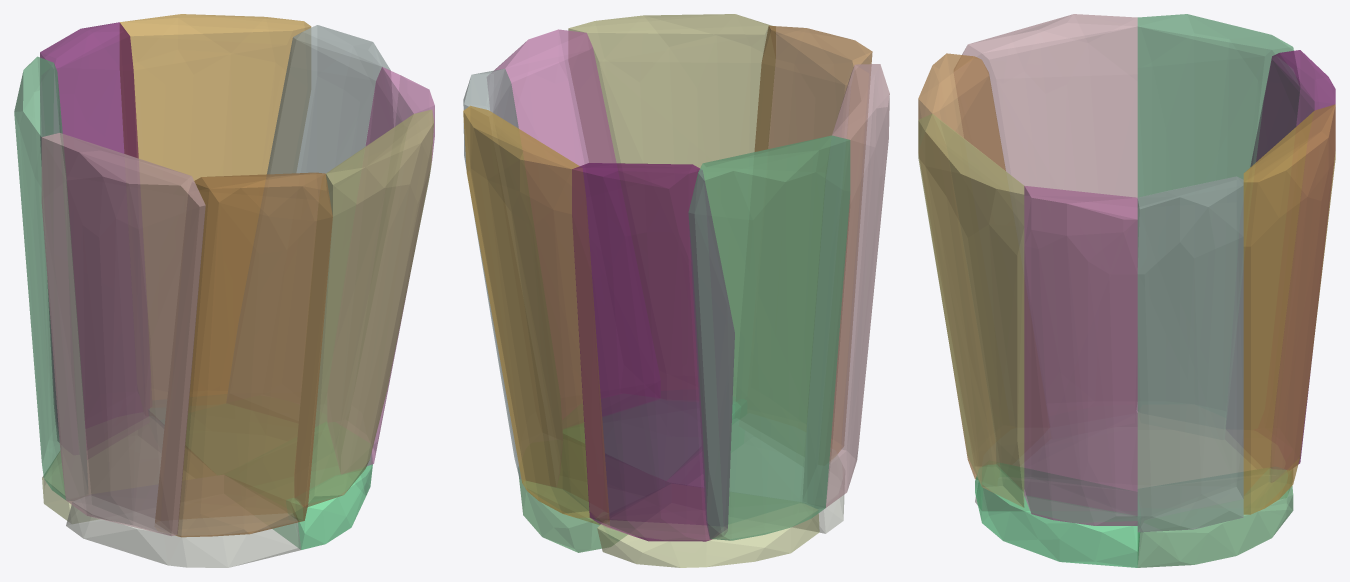
Rendered from cup.dae.
3 renders of one model, left to right at view 1: azimuth 30°, elevation 25°; view 2: azimuth 150°, elevation 25°; view 3: azimuth 270°, elevation 25°, orthographic.
Visible parts, largest first — view 1: Shape_IndexedFaceSet_005, Shape_IndexedFaceSet_004, Shape_IndexedFaceSet_011, Shape_IndexedFaceSet_006, Shape_IndexedFaceSet_010, Shape_IndexedFaceSet_009, Shape_IndexedFaceSet_007, Shape_IndexedFaceSet, Shape_IndexedFaceSet_008, Shape_IndexedFaceSet_001, Shape_IndexedFaceSet_003, Shape_IndexedFaceSet_002; view 2: Shape_IndexedFaceSet_008, Shape_IndexedFaceSet_009, Shape_IndexedFaceSet_006, Shape_IndexedFaceSet_011, Shape_IndexedFaceSet_005, Shape_IndexedFaceSet_007, Shape_IndexedFaceSet_010, Shape_IndexedFaceSet_004, Shape_IndexedFaceSet_002, Shape_IndexedFaceSet_001, Shape_IndexedFaceSet_003, Shape_IndexedFaceSet; view 3: Shape_IndexedFaceSet_004, Shape_IndexedFaceSet_008, Shape_IndexedFaceSet_007, Shape_IndexedFaceSet_010, Shape_IndexedFaceSet_006, Shape_IndexedFaceSet_011, Shape_IndexedFaceSet_005, Shape_IndexedFaceSet_009, Shape_IndexedFaceSet_001, Shape_IndexedFaceSet_003, Shape_IndexedFaceSet, Shape_IndexedFaceSet_002.
Boxes of the visible parts, box(x1,y1,x2,y2) form: Shape_IndexedFaceSet_005: box(155, 172, 332, 537); Shape_IndexedFaceSet_004: box(41, 133, 205, 536); Shape_IndexedFaceSet_011: box(120, 14, 311, 399); Shape_IndexedFaceSet_006: box(294, 109, 433, 507); Shape_IndexedFaceSet_010: box(227, 25, 393, 414); Shape_IndexedFaceSet_009: box(40, 22, 142, 441); Shape_IndexedFaceSet_007: box(328, 67, 434, 465); Shape_IndexedFaceSet: box(66, 475, 301, 567); Shape_IndexedFaceSet_008: box(14, 56, 87, 500); Shape_IndexedFaceSet_001: box(249, 422, 372, 549); Shape_IndexedFaceSet_003: box(159, 404, 297, 474); Shape_IndexedFaceSet_002: box(42, 423, 194, 523); Shape_IndexedFaceSet_008: box(688, 135, 850, 540); Shape_IndexedFaceSet_009: box(572, 163, 734, 541); Shape_IndexedFaceSet_006: box(568, 14, 775, 396); Shape_IndexedFaceSet_011: box(463, 105, 609, 526); Shape_IndexedFaceSet_005: box(744, 25, 872, 460); Shape_IndexedFaceSet_007: box(487, 29, 659, 419); Shape_IndexedFaceSet_010: box(463, 68, 562, 479); Shape_IndexedFaceSet_004: box(803, 64, 889, 508); Shape_IndexedFaceSet_002: box(597, 484, 819, 567); Shape_IndexedFaceSet_001: box(563, 399, 735, 480); Shape_IndexedFaceSet_003: box(518, 468, 670, 552); Shape_IndexedFaceSet: box(688, 430, 844, 533); Shape_IndexedFaceSet_004: box(954, 14, 1137, 416); Shape_IndexedFaceSet_008: box(1137, 14, 1299, 417); Shape_IndexedFaceSet_007: box(1024, 185, 1137, 525); Shape_IndexedFaceSet_010: box(1137, 176, 1243, 532); Shape_IndexedFaceSet_006: box(918, 113, 1024, 507); Shape_IndexedFaceSet_011: box(1243, 104, 1335, 514); Shape_IndexedFaceSet_005: box(918, 53, 1015, 479); Shape_IndexedFaceSet_009: box(1250, 50, 1335, 481); Shape_IndexedFaceSet_001: box(975, 463, 1140, 567); Shape_IndexedFaceSet_003: box(1137, 467, 1293, 567); Shape_IndexedFaceSet: box(975, 412, 1136, 510); Shape_IndexedFaceSet_002: box(1138, 413, 1292, 498).
Size of the model in its own units: 0.0821 by 0.0821 by 0.0891.
